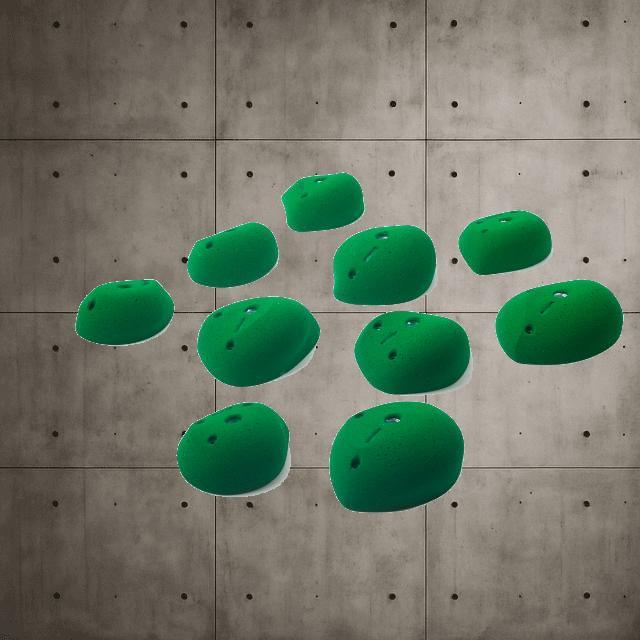Sloper: (328, 401, 464, 512), (198, 296, 322, 386), (175, 402, 291, 498), (496, 280, 624, 364), (354, 310, 470, 394), (332, 224, 436, 306), (76, 279, 174, 345), (458, 210, 552, 276), (185, 222, 278, 286), (281, 172, 365, 232)
